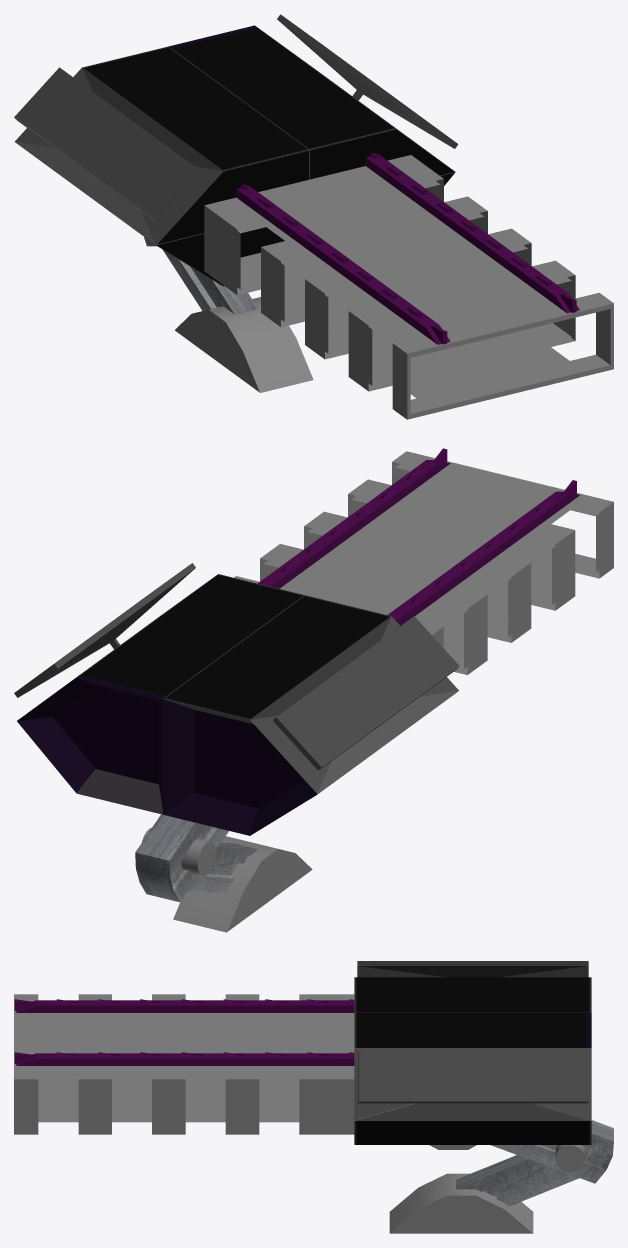
The model's file is PlasmaGun.fbx.
3 renders of one model, top to bottom at view 1: azimuth 30°, elevation 25°; view 2: azimuth 150°, elevation 25°; view 3: azimuth 270°, elevation 25°, orthographic. The views are drawn at different scales.
Visible parts, largest first — view 1: polySurface2; view 2: polySurface2; view 3: polySurface2.
Boxes of the visible parts, x1,y1,x2,y2 form: polySurface2: (14,14,613,419); polySurface2: (14,448,613,932); polySurface2: (14,961,613,1233).
Size of the model in its own units: 30.74 by 24.89 by 62.03.
5 materials, 3 textured.
